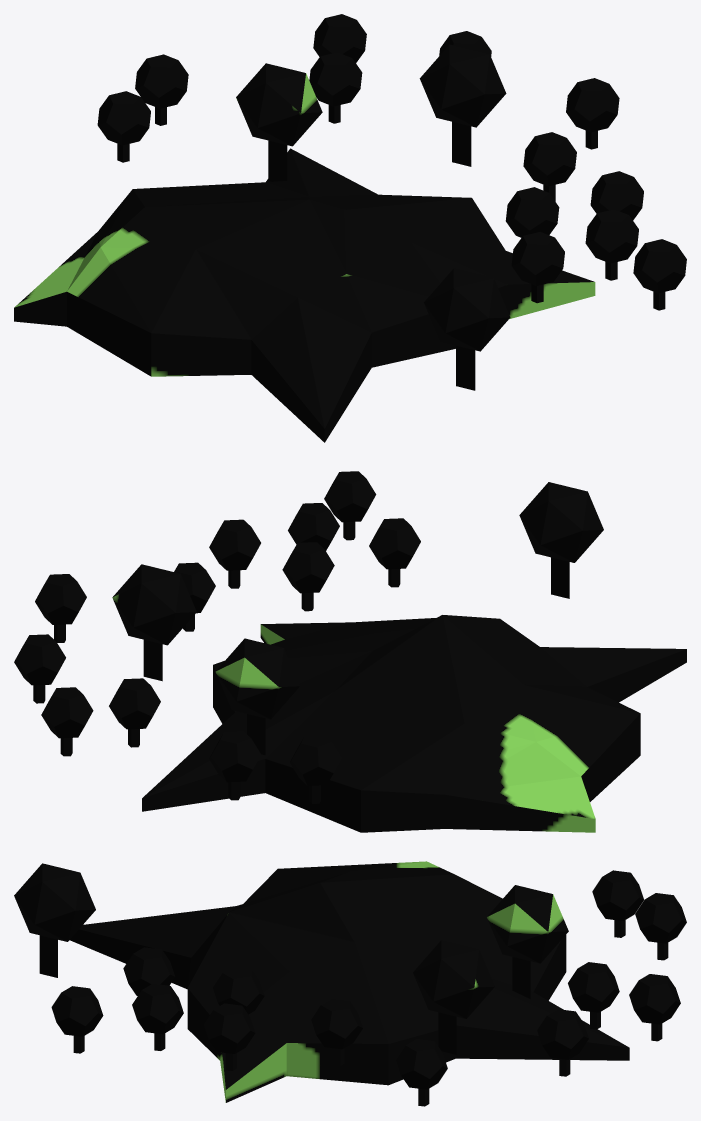
File: deco03.fbx
3 views of the same model, one above another, from view 1: azimuth 30°, elevation 25°; view 2: azimuth 150°, elevation 25°; view 3: azimuth 270°, elevation 25° (orthographic). The views are drawn at different scales.
Visible parts, largest first — view 1: Null_1; view 2: Null_1; view 3: Null_1.
Part boxes in pixels (x1=…): Null_1: x1=14, y1=14, x2=686, y2=442; Null_1: x1=14, y1=471, x2=686, y2=832; Null_1: x1=14, y1=861, x2=686, y2=1106.
Size of the model in its own units: 1457 by 372 by 1530.
Materials: 1 (1 with a texture image).
